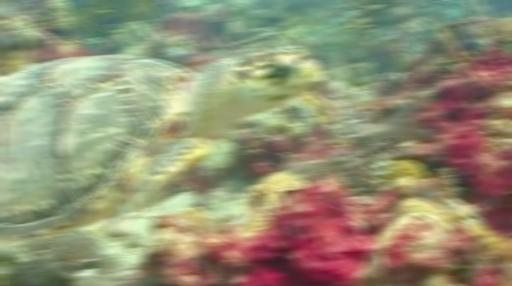Fish: (0, 48, 323, 237)
